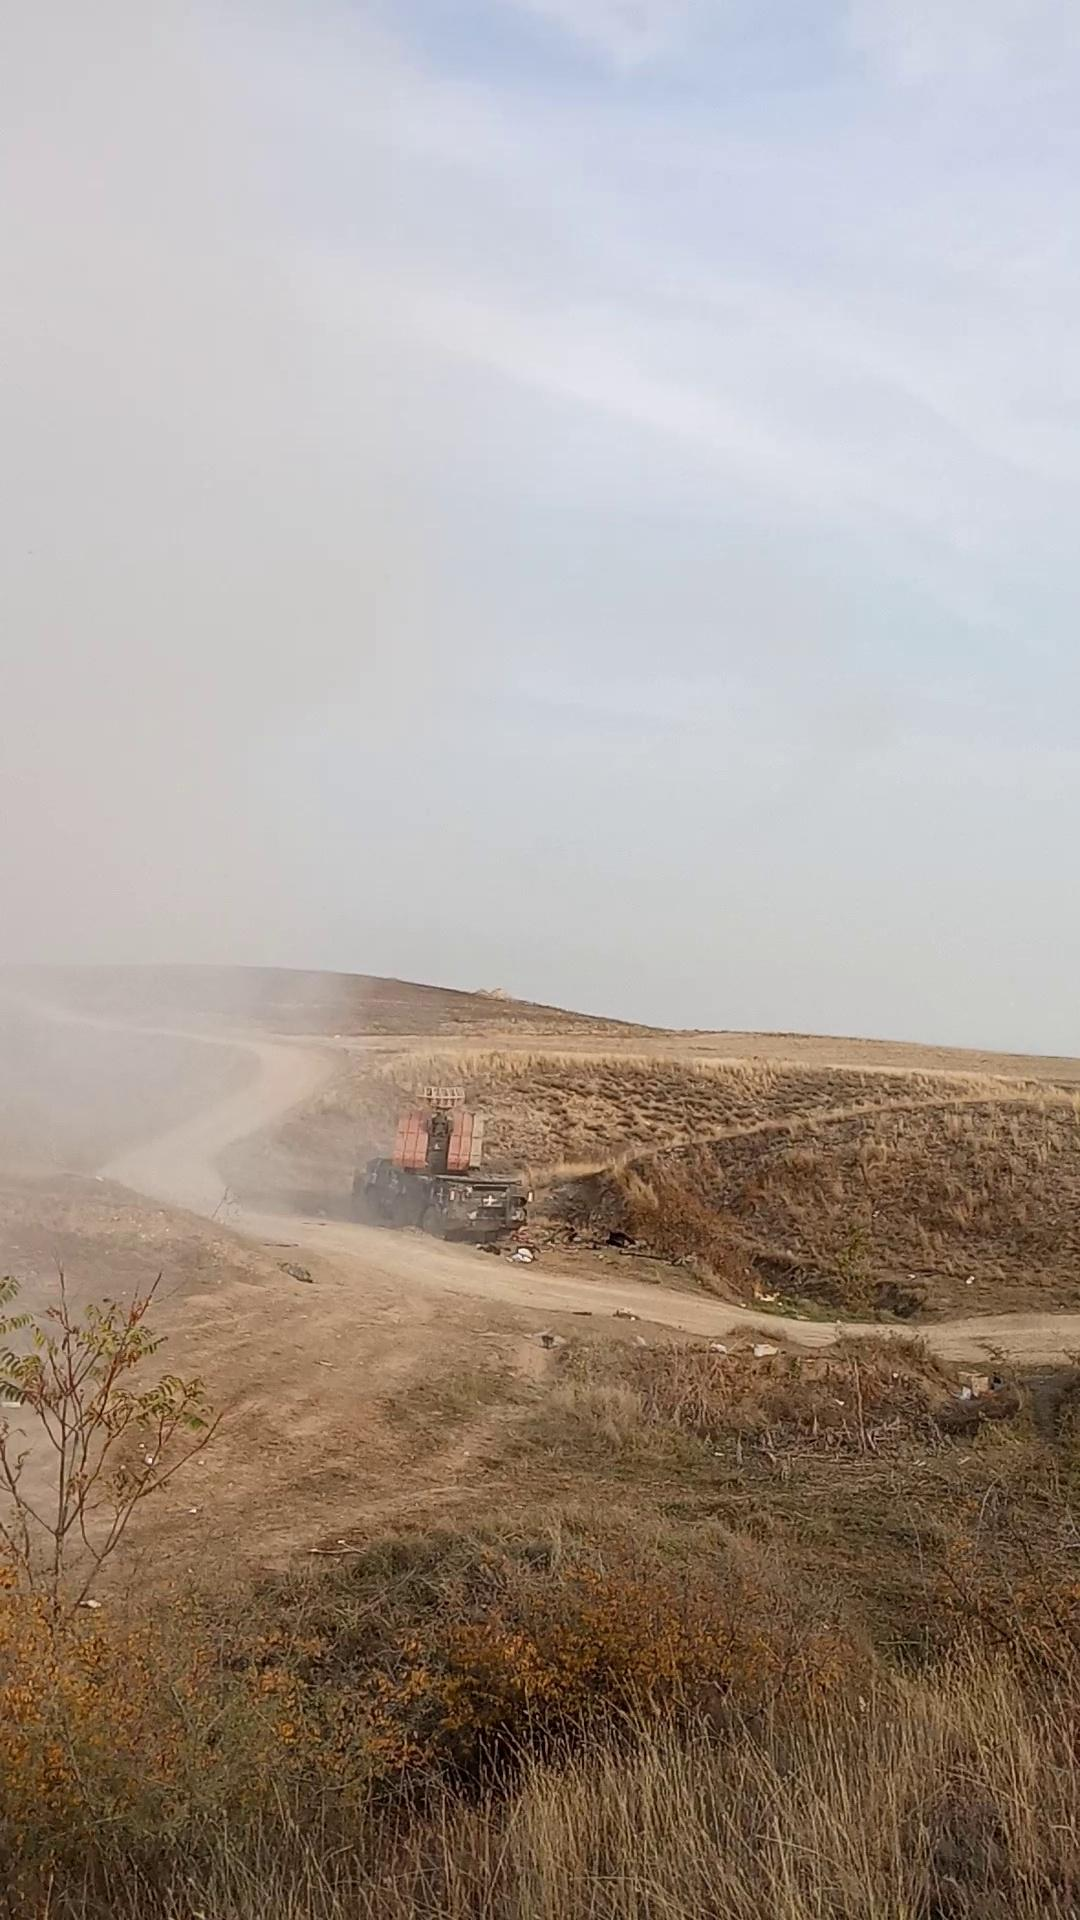MIL_SAM_TEL: (352, 1087, 539, 1282)
